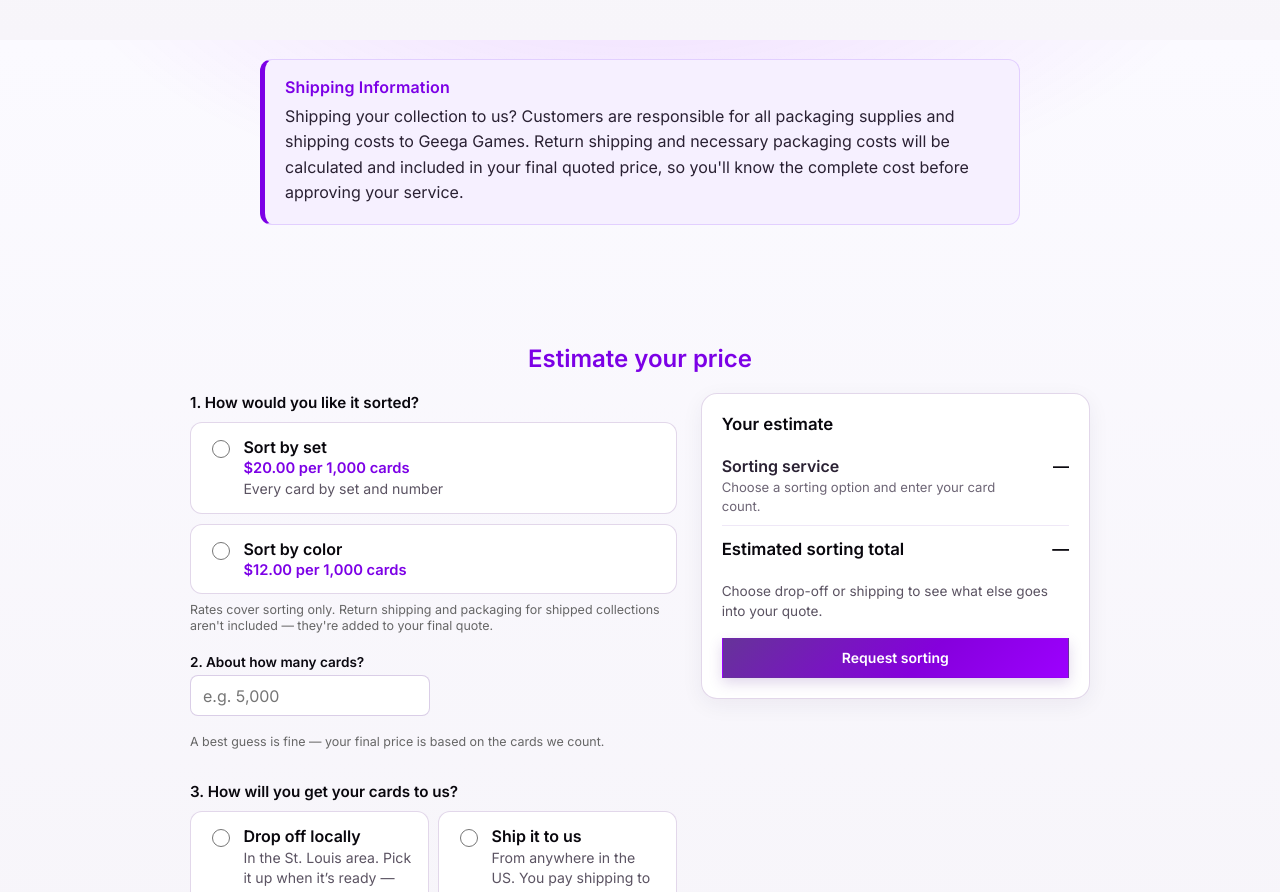
the request form › offers a signed-in customer's saved addresses, default first
The width and height of the screenshot is (1280, 892).
(page scrolled)
Step 1. Click the radio button labelled "Sort by set" → (221, 449), box [212,440,230,458]
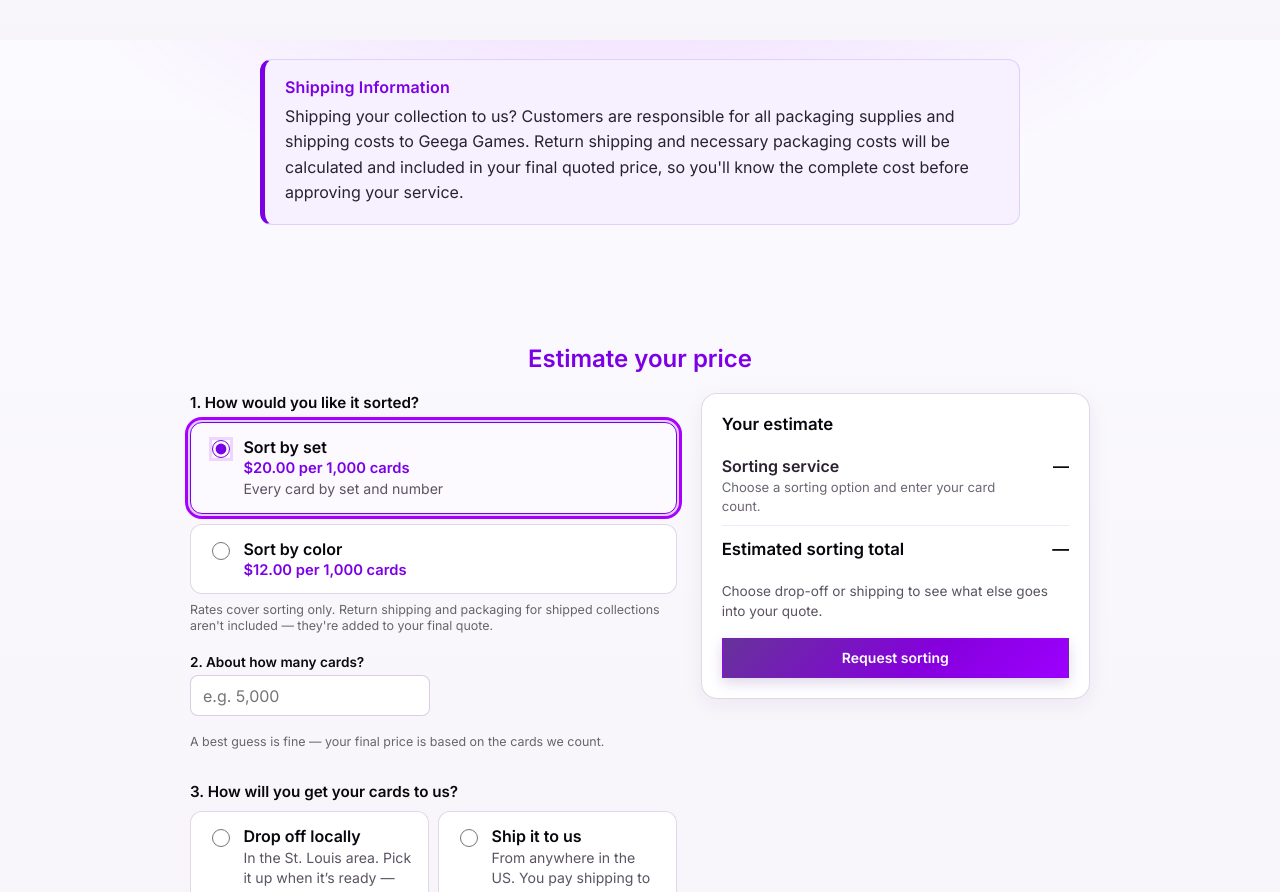
Step 2. Type "2,500" into the field labelled "2. About how many cards?" → (310, 696), box [190,675,430,716]
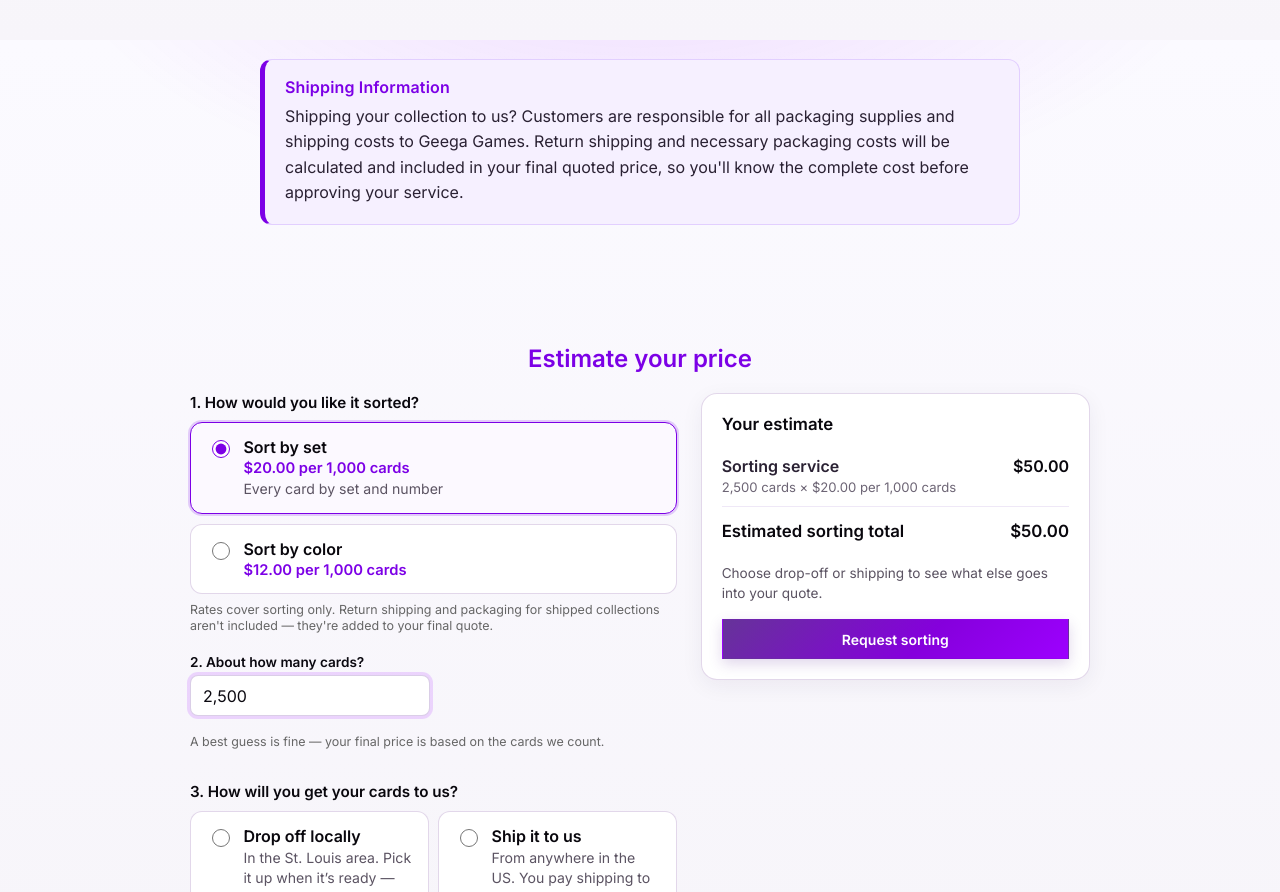
Step 3. Click the radio button labelled "Ship it to us" → (469, 838), box [460,829,478,847]
(page scrolled)
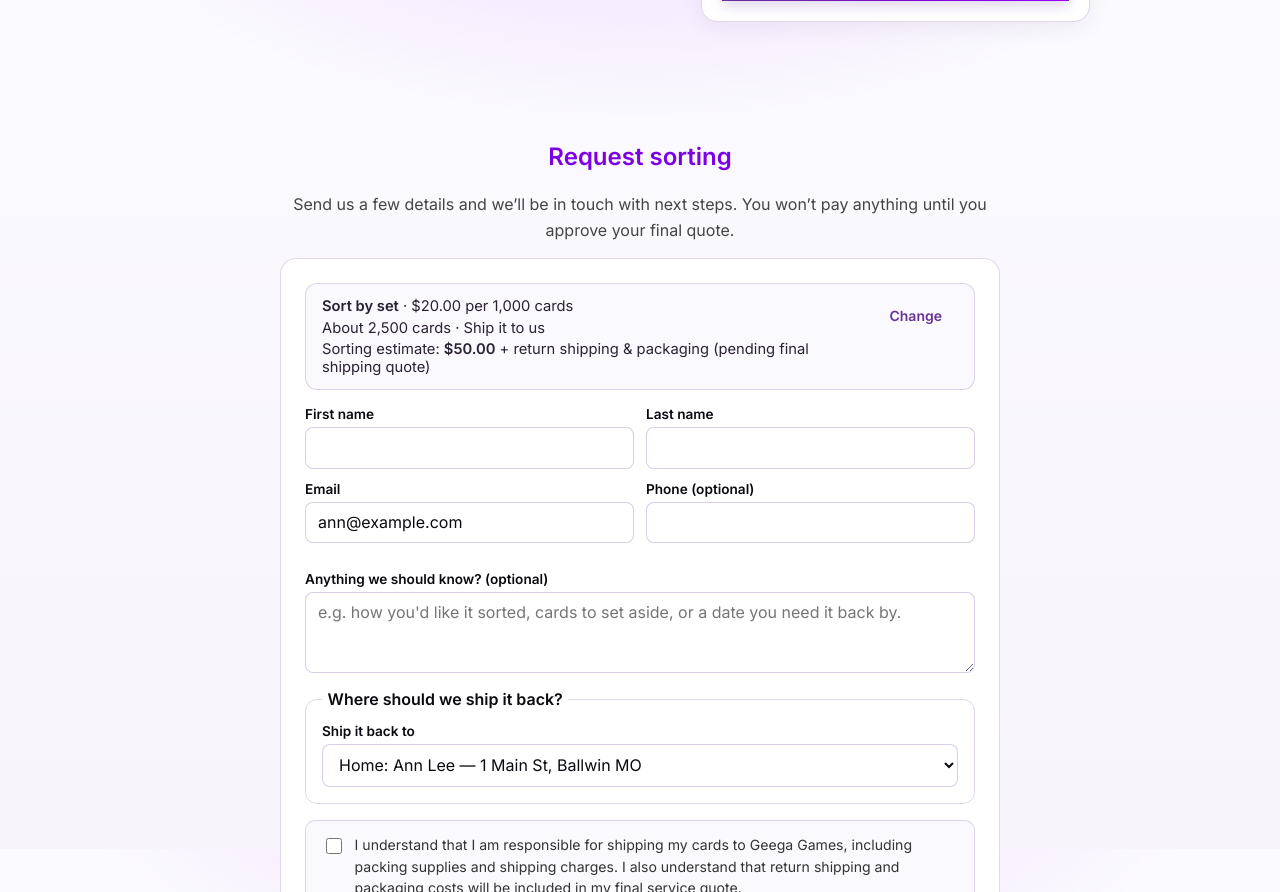
Step 4. Type "Ann" into the field labelled "First name" → (470, 448), box [305,428,634,469]
Step 5. Type "Lee" into the field labelled "Last name" → (810, 448), box [646,428,975,469]
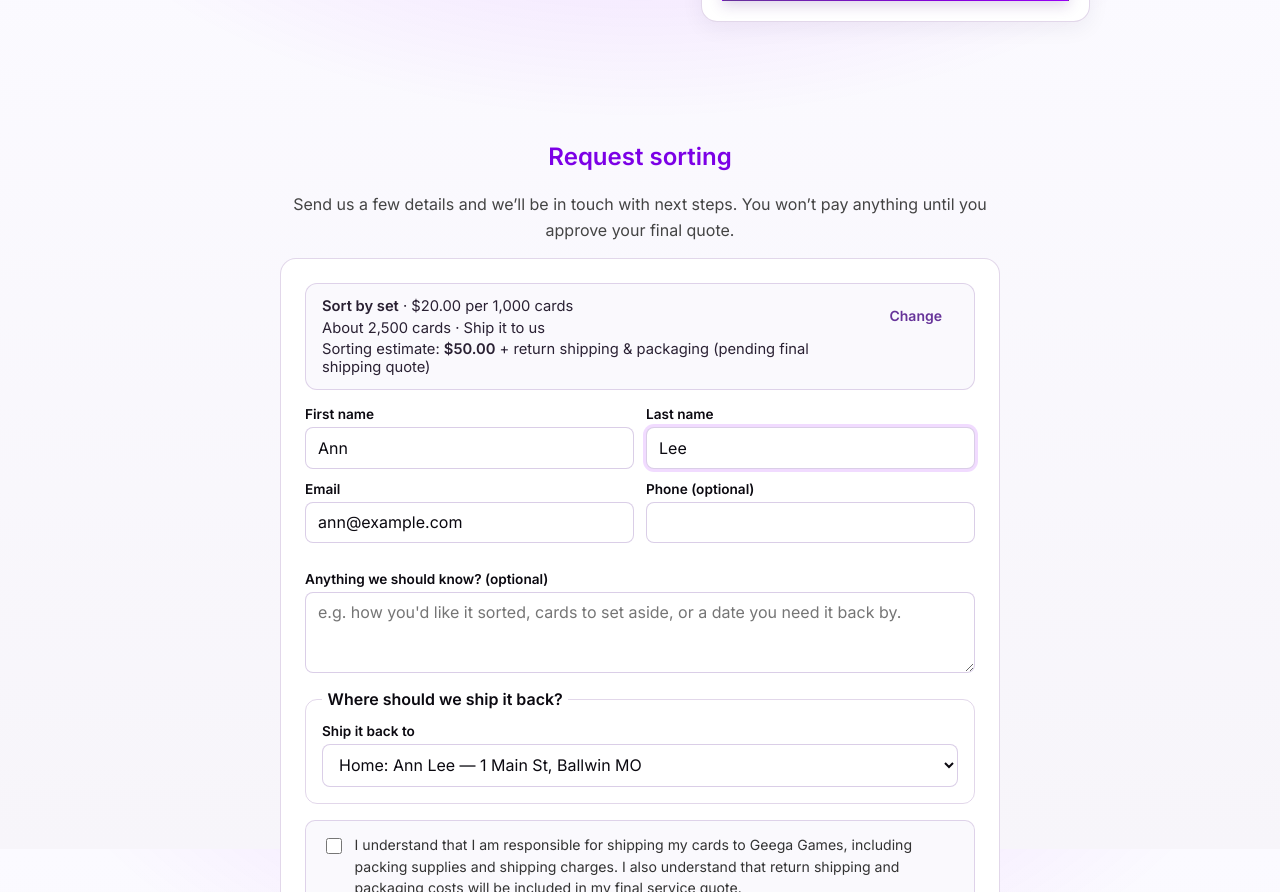
Check: the field labelled "Email" holds "ann@example.com", box [305,502,634,543]
Check: the dropdown labelled "Ship it back to" shows "Home: Ann Lee — 1 Main St, Ballwin MO", box [322,744,958,787]
Step 6. Click the checkbox named "I understand that I am responsible for shipping my cards to Geega Games, including packing supplies and shipping charges" → (334, 846), box [326,838,342,854]
(page scrolled)
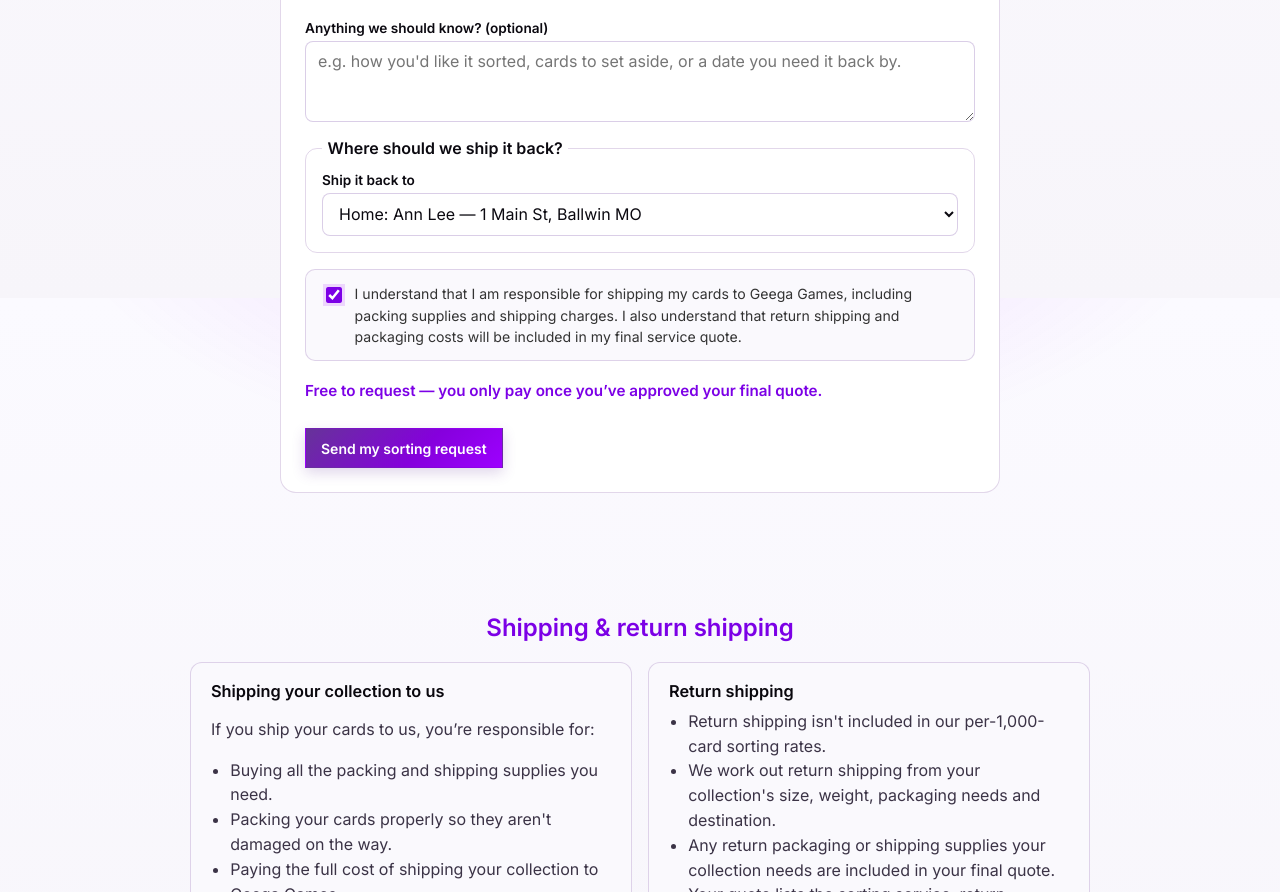
Step 7. Click the button "Send my sorting request" → (404, 448), box [305,428,503,468]
(page scrolled)
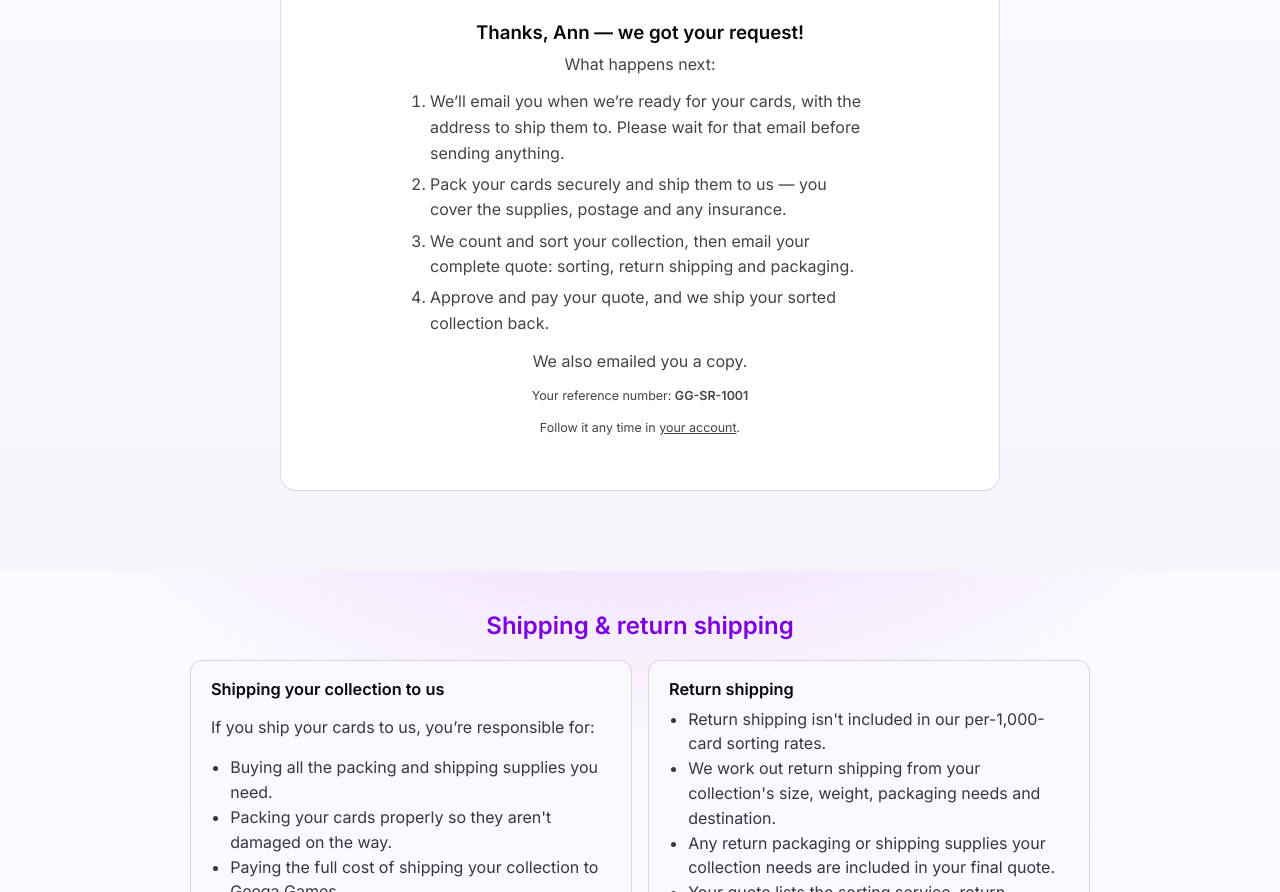
Check: the text "GG-SR-1001" is shown, box [675,388,748,403]
